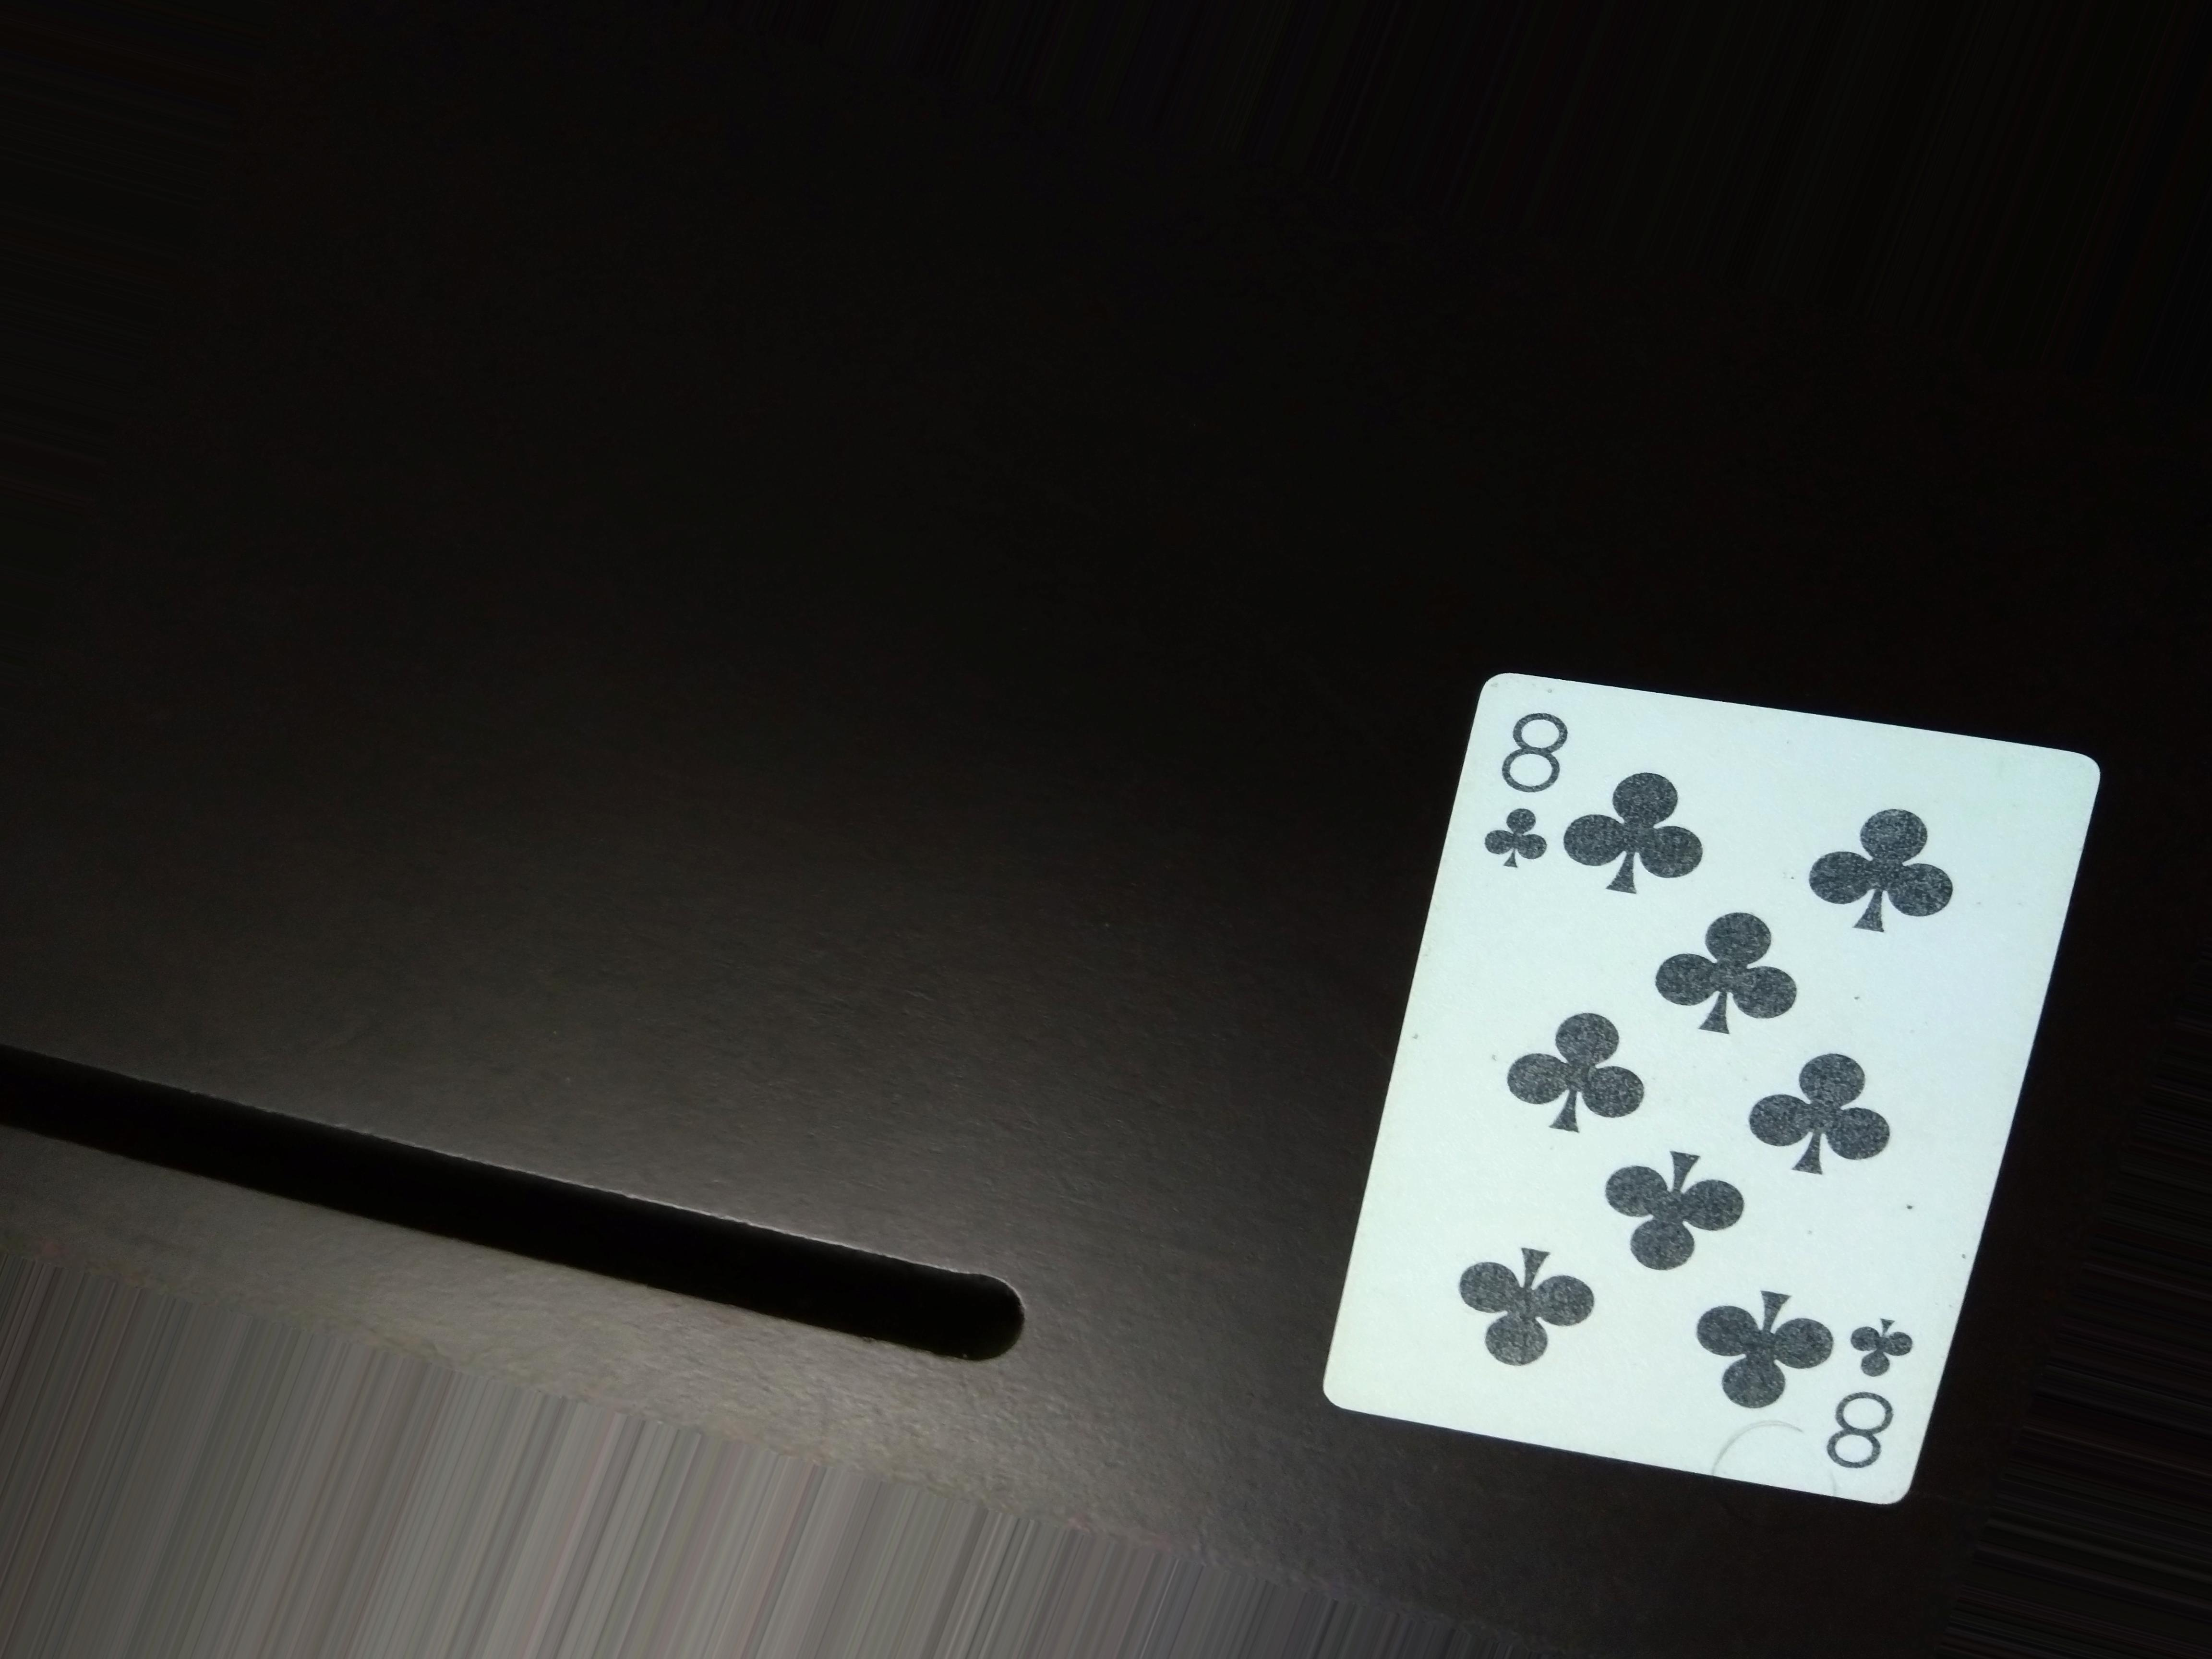8C: (1808, 1284, 1937, 1481)
